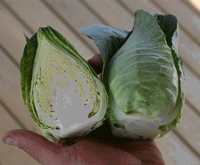cabbage: (73, 6, 190, 146), (16, 21, 109, 145)
